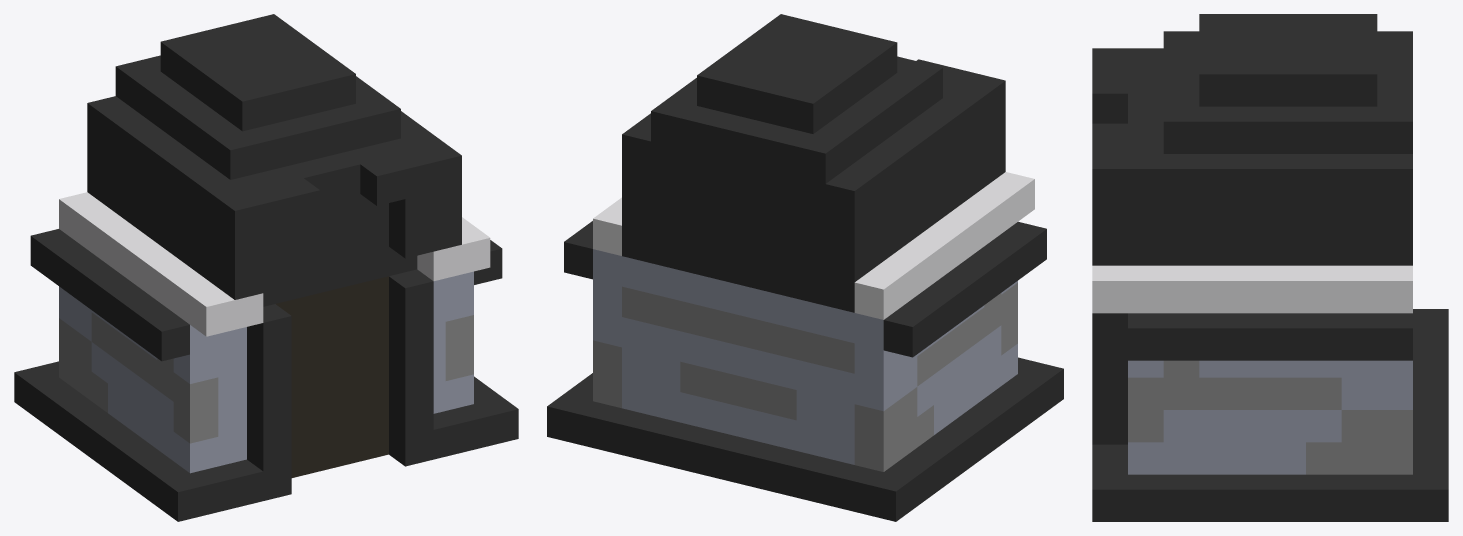
Rendered from Medieval Assets-191-Graveyard - Grave Crypt.obj.
The picture shows the model from 3 angles, left to right: view 1: azimuth 30°, elevation 25°; view 2: azimuth 150°, elevation 25°; view 3: azimuth 270°, elevation 25°; orthographic projection. The views are drawn at different scales.
Parts seen in each view (by area): view 1: Graveyard - Grave Crypt; view 2: Graveyard - Grave Crypt; view 3: Graveyard - Grave Crypt.
Boxes of the visible parts, box(x1,y1,x2,y2) form: Graveyard - Grave Crypt: box(14, 14, 518, 521); Graveyard - Grave Crypt: box(547, 14, 1063, 521); Graveyard - Grave Crypt: box(1092, 14, 1448, 521).
Bounding box in the file's own units: 1.2 × 1.2 × 1.
1 material, 1 textured.
